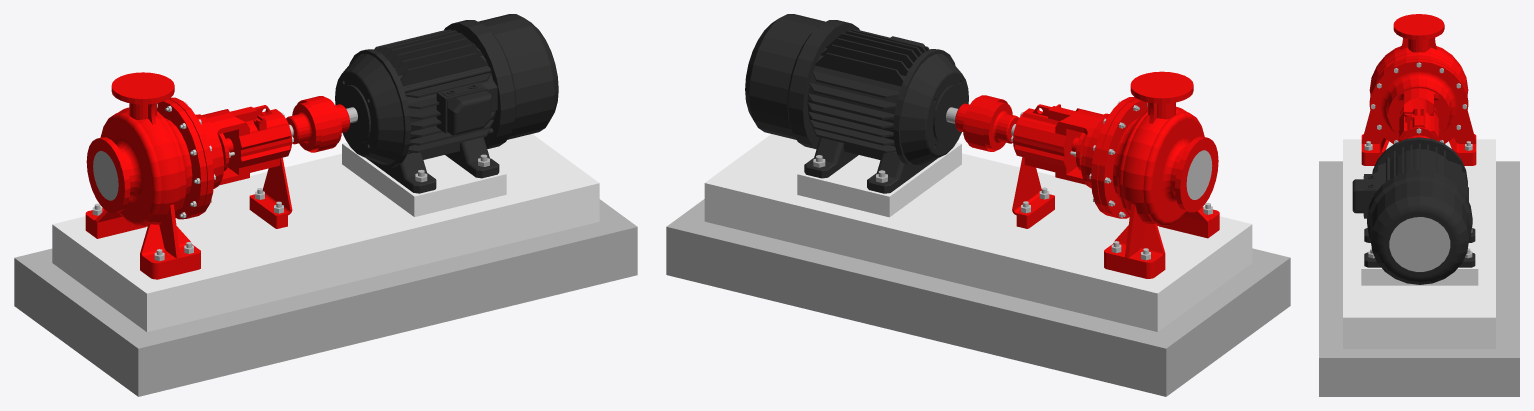
The model's file is Pumpe.obj.
3 renders of one model, left to right at view 1: azimuth 30°, elevation 25°; view 2: azimuth 150°, elevation 25°; view 3: azimuth 270°, elevation 25°, orthographic. The views are drawn at different scales.
Parts seen in each view (by area): view 1: Pumpe.obj_58, Pumpe.obj_90, Pumpe.obj_4, Pumpe.obj_1, Pumpe.obj_10, Pumpe.obj_94, Pumpe.obj_3, Pumpe.obj_96, Pumpe.obj_93, Pumpe.obj_11, Pumpe.obj_8, Pumpe.obj_9 (+3 smaller); view 2: Pumpe.obj_58, Pumpe.obj_90, Pumpe.obj_4, Pumpe.obj_1, Pumpe.obj_94, Pumpe.obj_10, Pumpe.obj_5, Pumpe.obj_11, Pumpe.obj_8, Pumpe.obj_9, Pumpe.obj_98, Pumpe.obj_97 (+2 smaller); view 3: Pumpe.obj_90, Pumpe.obj_58, Pumpe.obj_4, Pumpe.obj_1, Pumpe.obj_94, Pumpe.obj_11, Pumpe.obj_10, Pumpe.obj_3, Pumpe.obj_93, Pumpe.obj_5, Pumpe.obj_97.
Boxes of the visible parts, x1=… form: Pumpe.obj_58: x1=52, y1=134, x2=599, y2=331; Pumpe.obj_90: x1=14, y1=199, x2=637, y2=396; Pumpe.obj_4: x1=335, y1=14, x2=558, y2=168; Pumpe.obj_1: x1=86, y1=97, x2=249, y2=226; Pumpe.obj_10: x1=223, y1=105, x2=293, y2=228; Pumpe.obj_94: x1=374, y1=29, x2=495, y2=159; Pumpe.obj_3: x1=140, y1=204, x2=200, y2=279; Pumpe.obj_96: x1=405, y1=72, x2=495, y2=152; Pumpe.obj_93: x1=436, y1=81, x2=497, y2=135; Pumpe.obj_11: x1=111, y1=72, x2=174, y2=124; Pumpe.obj_8: x1=297, y1=96, x2=349, y2=152; Pumpe.obj_9: x1=286, y1=102, x2=321, y2=150; Pumpe.obj_58: x1=704, y1=134, x2=1252, y2=331; Pumpe.obj_90: x1=666, y1=199, x2=1290, y2=396; Pumpe.obj_4: x1=745, y1=14, x2=968, y2=168; Pumpe.obj_1: x1=1055, y1=97, x2=1218, y2=225; Pumpe.obj_94: x1=807, y1=29, x2=929, y2=159; Pumpe.obj_10: x1=1011, y1=104, x2=1081, y2=228; Pumpe.obj_5: x1=1104, y1=203, x2=1165, y2=278; Pumpe.obj_11: x1=1130, y1=71, x2=1193, y2=123; Pumpe.obj_8: x1=955, y1=95, x2=1007, y2=151; Pumpe.obj_9: x1=983, y1=101, x2=1018, y2=150; Pumpe.obj_98: x1=867, y1=152, x2=937, y2=193; Pumpe.obj_97: x1=804, y1=137, x2=858, y2=178; Pumpe.obj_90: x1=1319, y1=161, x2=1519, y2=396; Pumpe.obj_58: x1=1343, y1=139, x2=1495, y2=348; Pumpe.obj_4: x1=1367, y1=137, x2=1472, y2=284; Pumpe.obj_1: x1=1369, y1=46, x2=1468, y2=144; Pumpe.obj_94: x1=1390, y1=143, x2=1468, y2=201; Pumpe.obj_11: x1=1393, y1=14, x2=1444, y2=52; Pumpe.obj_10: x1=1399, y1=99, x2=1438, y2=141; Pumpe.obj_3: x1=1361, y1=111, x2=1388, y2=165; Pumpe.obj_93: x1=1352, y1=174, x2=1377, y2=218; Pumpe.obj_5: x1=1454, y1=111, x2=1476, y2=165; Pumpe.obj_97: x1=1364, y1=252, x2=1475, y2=267.
Bounding box in the file's own units: 1.62 × 0.7765 × 0.7004.
